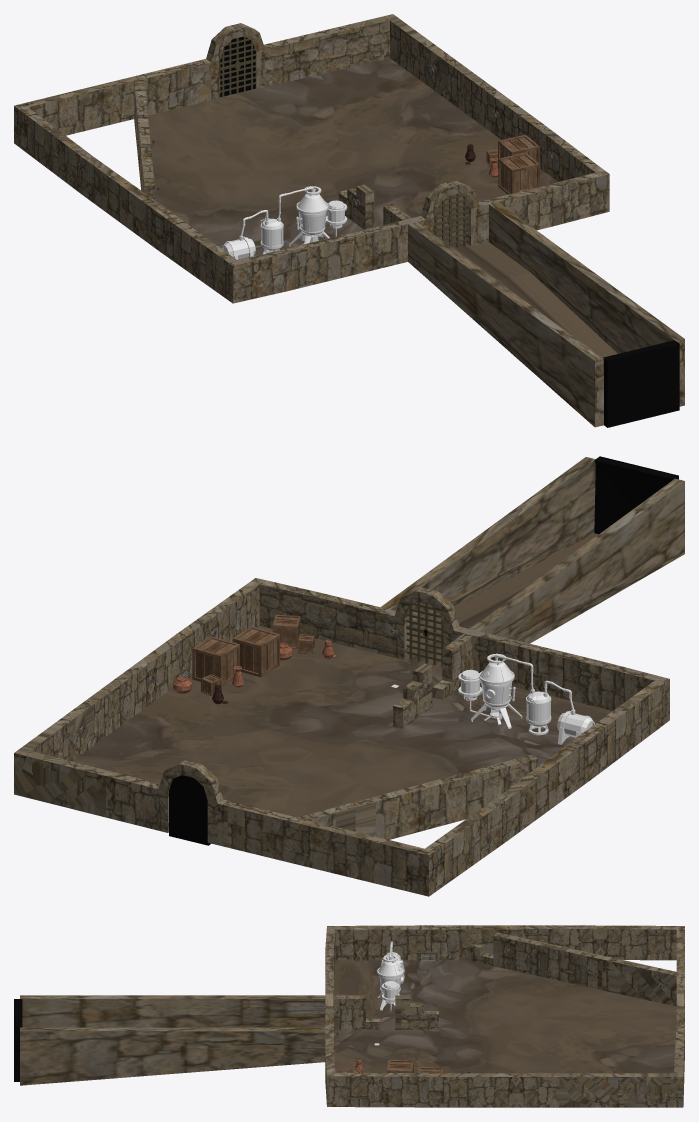
The model's file is CraftingTutorial.glb.
3 renders of one model, top to bottom at view 1: azimuth 30°, elevation 25°; view 2: azimuth 150°, elevation 25°; view 3: azimuth 270°, elevation 25°, orthographic. The views are drawn at different scales.
Parts seen in each view (by area): view 1: Walls, Plane, NextRoom, Cube.014, Exit Gate, Cauldron, Exit Gate.001, Entrance, Lid, Cube.004, Valve_Barrel, Reinforcement; view 2: Walls, Plane, NextRoom, Entrance, Cube.014, Cube.004, Exit Gate, Cauldron, Valve_Barrel, Reinforcement, Lid, Cube.003; view 3: Walls, Plane, NextRoom, Cauldron, Lid, Cube.014.
Boxes of the visible parts, x1=… form: Walls: x1=14, y1=14, x2=684, y2=427; Plane: x1=148, y1=58, x2=617, y2=357; NextRoom: x1=603, y1=340, x2=679, y2=427; Cube.014: x1=498, y1=152, x2=539, y2=194; Exit Gate: x1=435, y1=193, x2=469, y2=247; Cauldron: x1=289, y1=200, x2=347, y2=246; Exit Gate.001: x1=220, y1=37, x2=255, y2=96; Entrance: x1=220, y1=36, x2=255, y2=96; Lid: x1=277, y1=186, x2=328, y2=221; Cube.004: x1=498, y1=134, x2=539, y2=167; Valve_Barrel: x1=221, y1=210, x2=268, y2=259; Reinforcement: x1=260, y1=217, x2=283, y2=253; Walls: x1=14, y1=457, x2=684, y2=896; Plane: x1=72, y1=533, x2=612, y2=817; NextRoom: x1=594, y1=456, x2=678, y2=534; Entrance: x1=169, y1=775, x2=210, y2=845; Cube.014: x1=232, y1=626, x2=279, y2=677; Cube.004: x1=192, y1=636, x2=239, y2=686; Exit Gate: x1=406, y1=602, x2=443, y2=666; Cauldron: x1=458, y1=669, x2=522, y2=728; Valve_Barrel: x1=543, y1=680, x2=594, y2=744; Reinforcement: x1=526, y1=691, x2=551, y2=735; Lid: x1=479, y1=653, x2=534, y2=693; Cube.003: x1=272, y1=615, x2=300, y2=648; Walls: x1=20, y1=925, x2=684, y2=1107; Plane: x1=334, y1=960, x2=676, y2=1073; NextRoom: x1=14, y1=999, x2=22, y2=1081; Cauldron: x1=377, y1=975, x2=403, y2=1010; Lid: x1=377, y1=943, x2=403, y2=978; Cube.014: x1=387, y1=1060, x2=413, y2=1072.
Size of what is drawn, in the model's own units: 21.09 by 4.97 by 39.47.
Materials: 9 (7 with a texture image).
